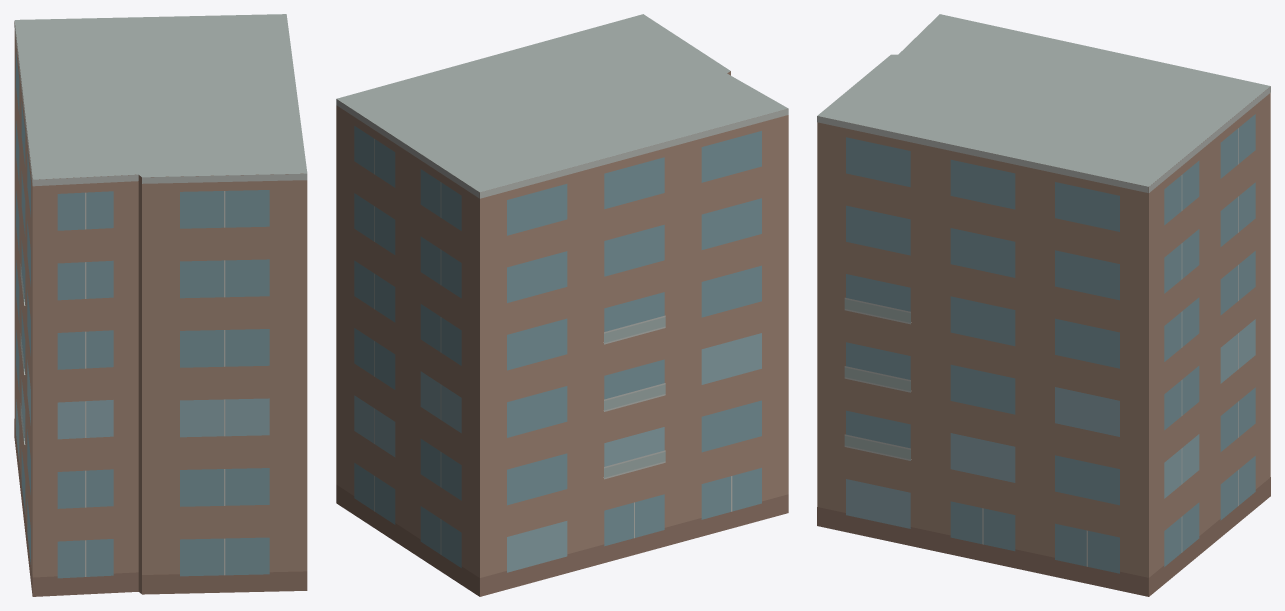
File: survey-upis-32993508.glb
The picture shows the model from 3 angles, left to right: view 1: azimuth 30°, elevation 25°; view 2: azimuth 150°, elevation 25°; view 3: azimuth 270°, elevation 25°; orthographic projection. The views are drawn at different scales.
Parts seen in each view (by area): view 1: survey-upis-32993508.tmp; view 2: survey-upis-32993508.tmp; view 3: survey-upis-32993508.tmp.
Boxes of the visible parts, x1,y1,x2,y2 form: survey-upis-32993508.tmp: (14, 14, 307, 596); survey-upis-32993508.tmp: (336, 14, 788, 596); survey-upis-32993508.tmp: (817, 14, 1270, 596).
Size of the model in its own units: 14.11 by 15.6 by 15.65.
